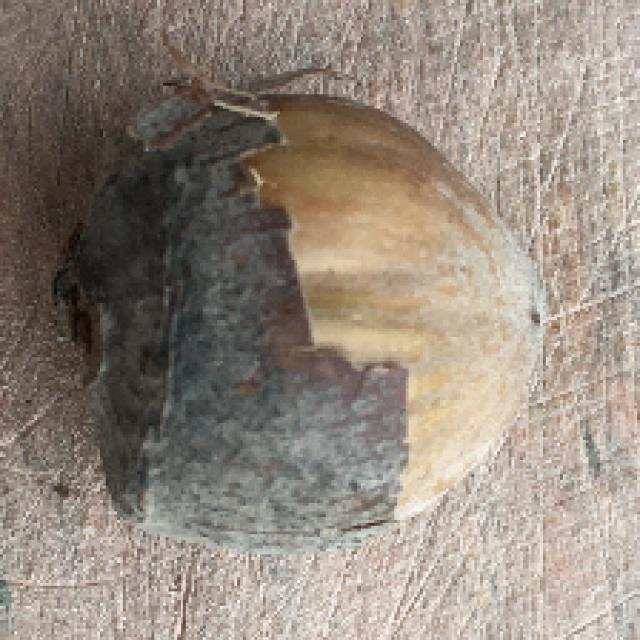damagedHazelnut: (52, 57, 559, 546)
